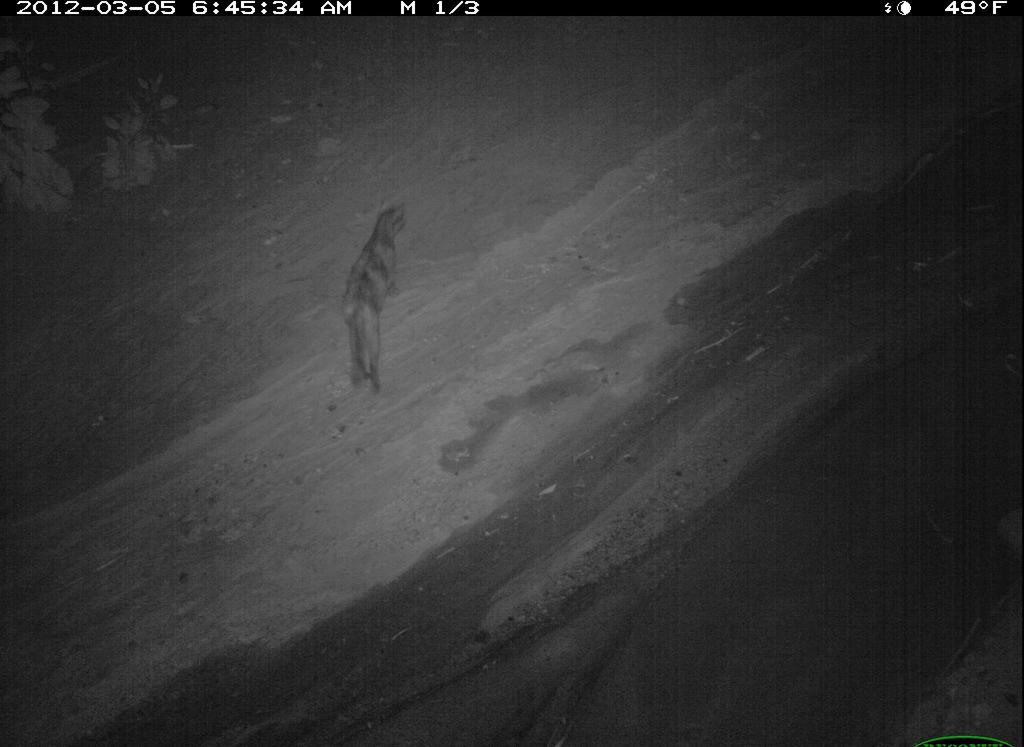cat: (666, 390, 825, 747)
